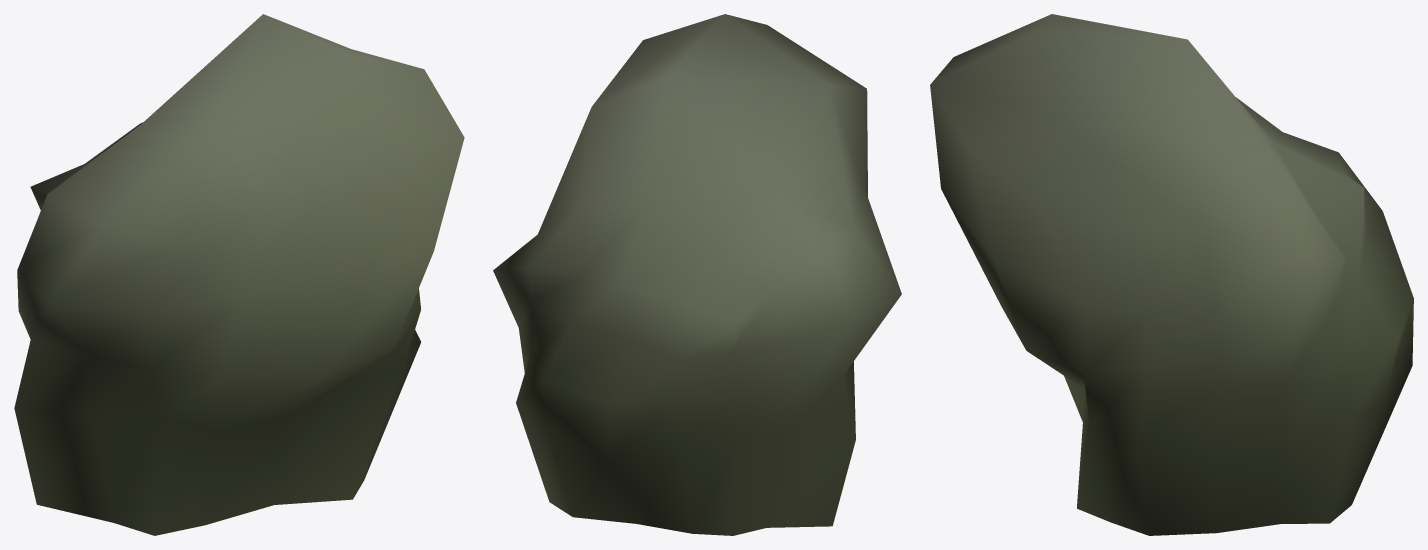
The model's file is WE02_Brush32.fbx.
3 renders of one model, left to right at view 1: azimuth 30°, elevation 25°; view 2: azimuth 150°, elevation 25°; view 3: azimuth 270°, elevation 25°, orthographic. The views are drawn at different scales.
Parts seen in each view (by area): view 1: WE02_Brush32; view 2: WE02_Brush32; view 3: WE02_Brush32.
Part boxes in pixels (x1,y1,x2,y2): WE02_Brush32: (14, 14, 464, 535); WE02_Brush32: (493, 14, 901, 535); WE02_Brush32: (930, 14, 1413, 535).
Bounding box in the file's own units: 4.83 × 5.53 × 5.21.
